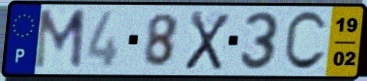3: (238, 10, 283, 72)
4: (85, 8, 124, 72)
8: (142, 11, 180, 69)
C: (281, 9, 330, 74)
M: (31, 7, 89, 72)
X: (182, 9, 232, 72)
